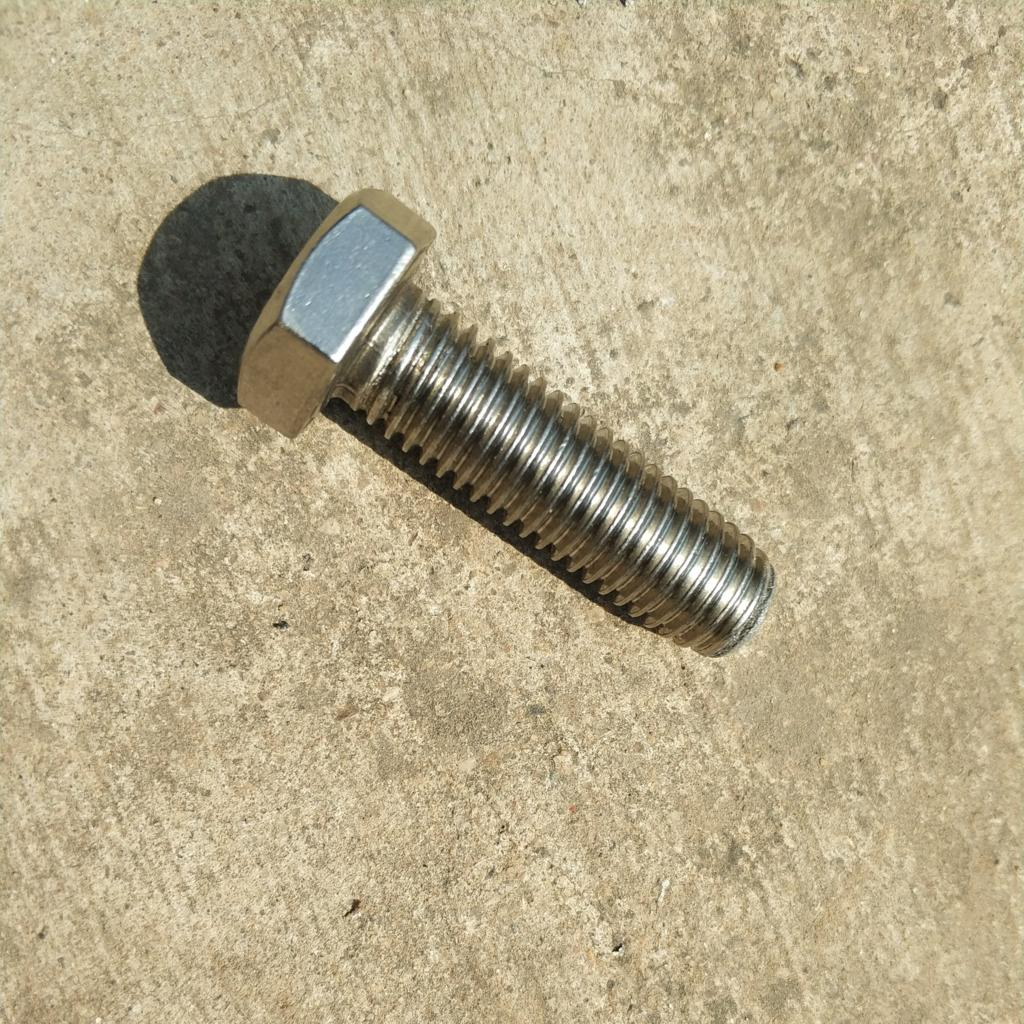screwtype2silver: (218, 181, 781, 670)
